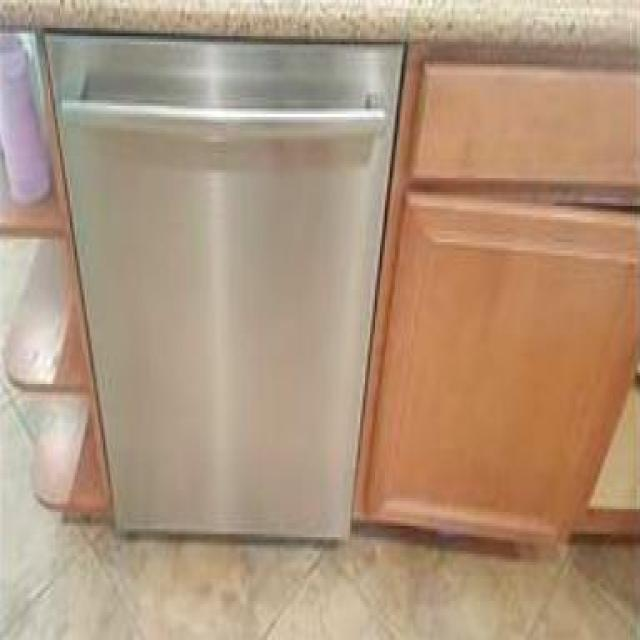dishwasher: (43, 25, 405, 573)
